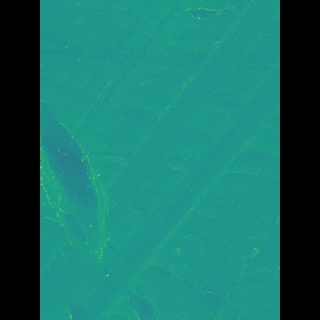Loch: (70, 0, 249, 320), (68, 94, 125, 268), (88, 270, 161, 320), (174, 0, 218, 31)
